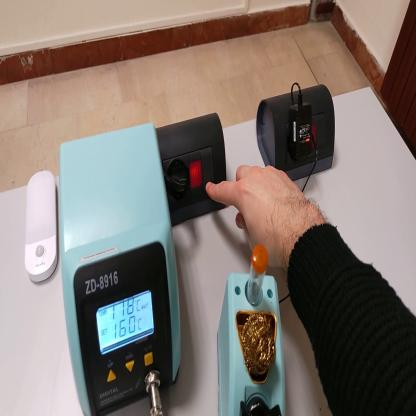hand: (206, 162, 308, 269)
socket: (157, 113, 228, 227), (257, 83, 338, 180)
welder base: (219, 245, 289, 414)
welder station: (58, 128, 184, 415)
